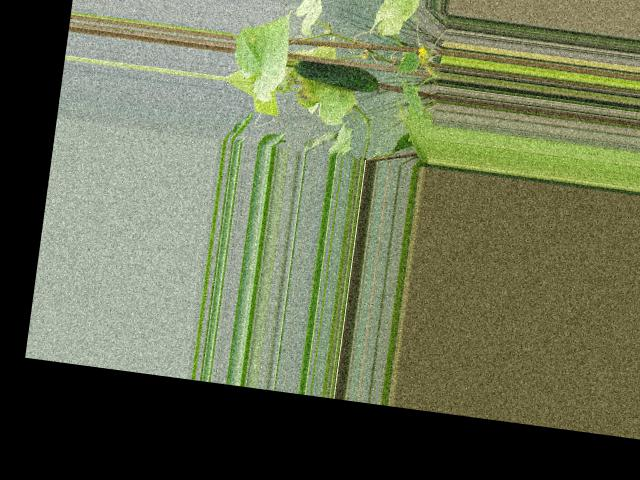cucumber: (293, 58, 381, 94)
